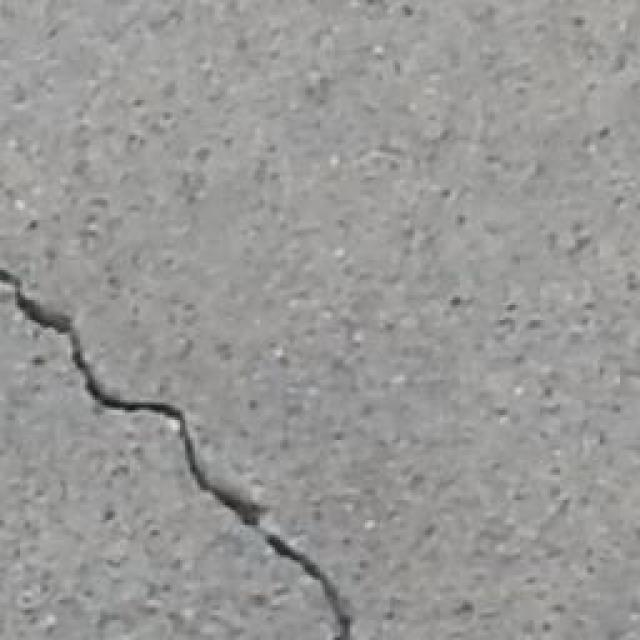concrete-crack: (0, 268, 352, 640)
